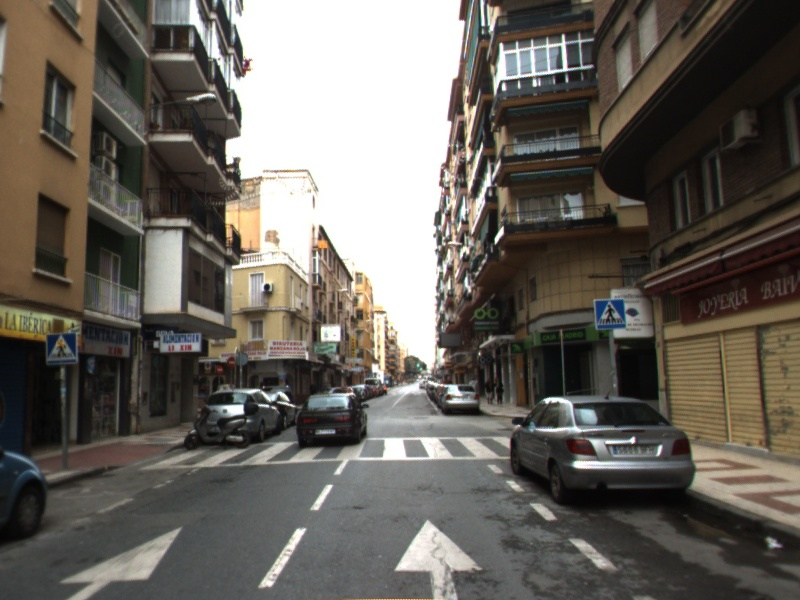STRAIGHT: (54, 521, 186, 600), (390, 514, 487, 600)
